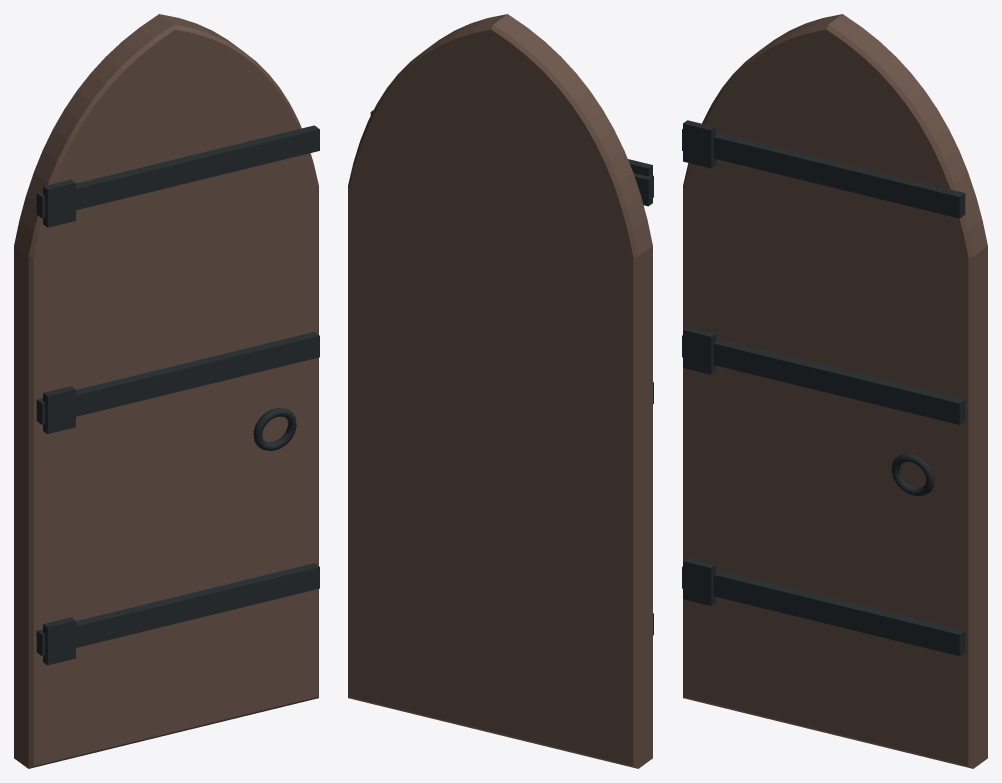
File: door.glb
3 views of the same model, side by side, from view 1: azimuth 30°, elevation 25°; view 2: azimuth 150°, elevation 25°; view 3: azimuth 330°, elevation 25° (orthographic).
Visible parts, largest first — view 1: door-leaf; view 2: door-leaf; view 3: door-leaf.
Part boxes in pixels (left/top/right/bottom): door-leaf: left=14, top=14, right=319, bottom=768; door-leaf: left=348, top=14, right=653, bottom=768; door-leaf: left=682, top=14, right=987, bottom=768.
Bounding box in the file's own units: 1.84 × 4.29 × 0.3095.
